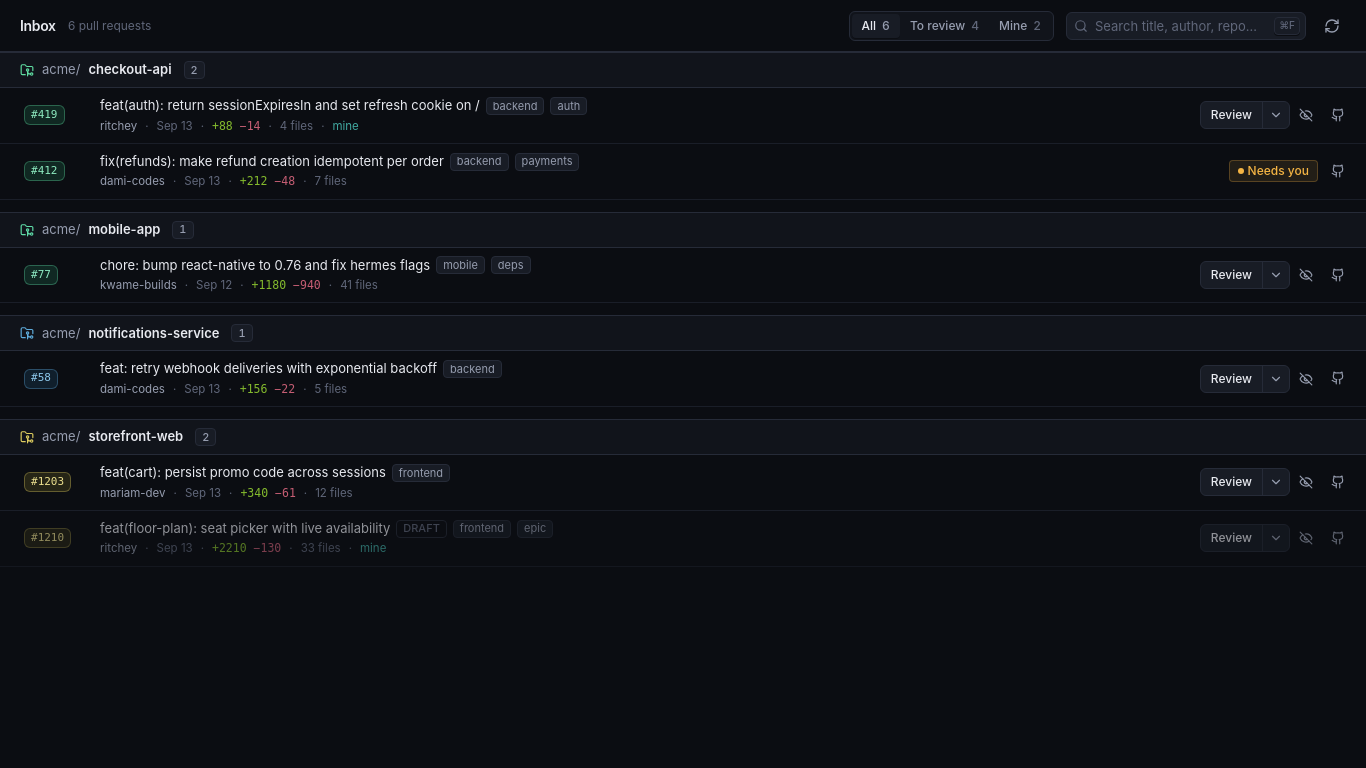
InboxScreen › filters to my own pull requests
Click the button "Mine 2". click: (1020, 26)
box: [989,14,1051,38]
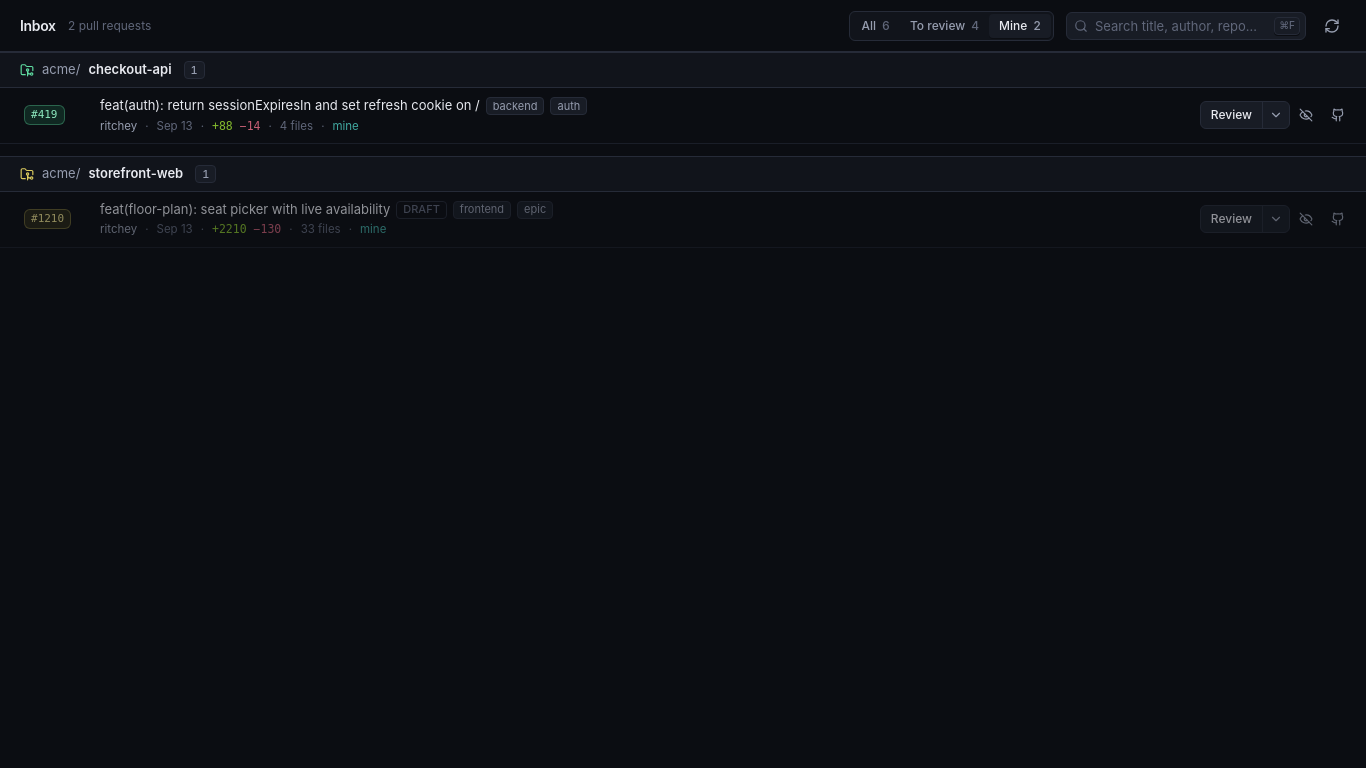
Now the number of list items is 2, box [0,88,1365,144]; [0,192,1365,248]
